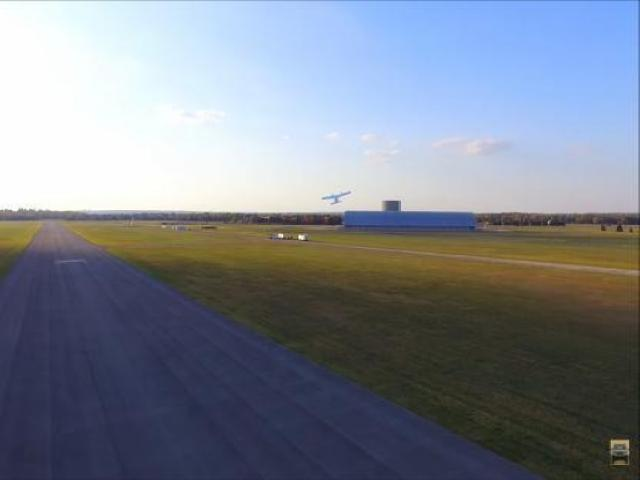uav: (321, 186, 350, 207)
